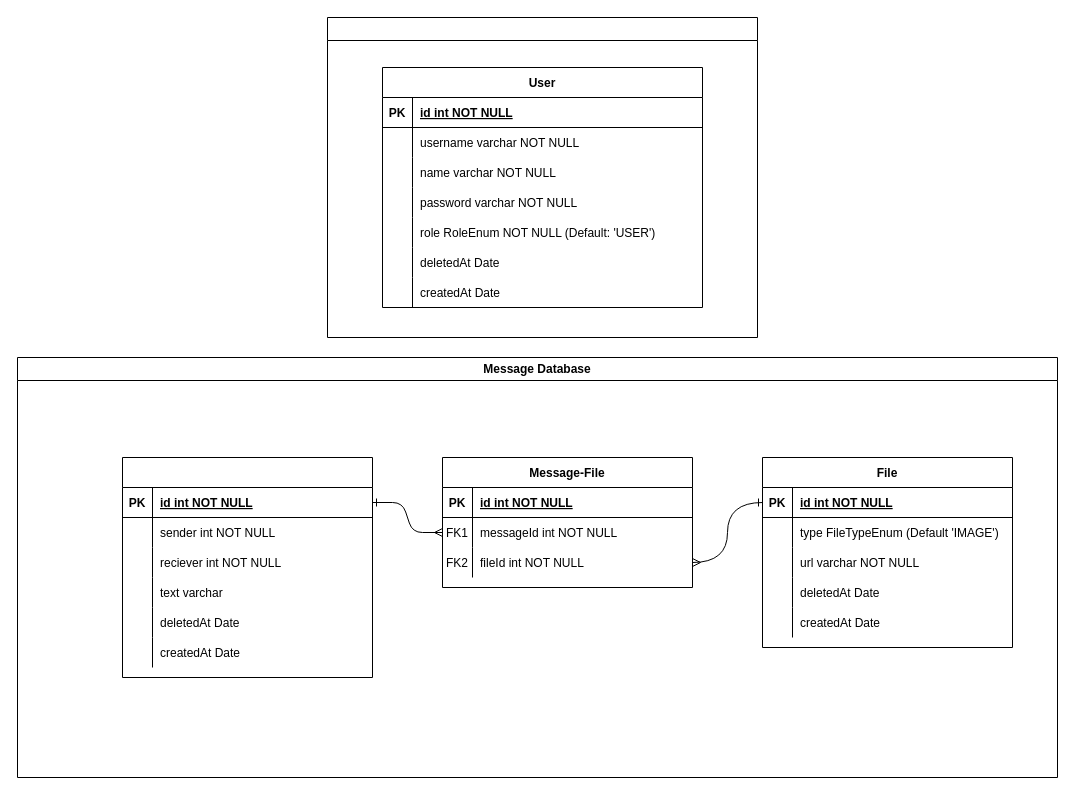
Some shapes in this 1075 by 795 pixel diagram are drawn without their labels. Each missing label, with the box of its shape:
Message: (122, 456, 372, 678)
User Database: (326, 16, 758, 338)
